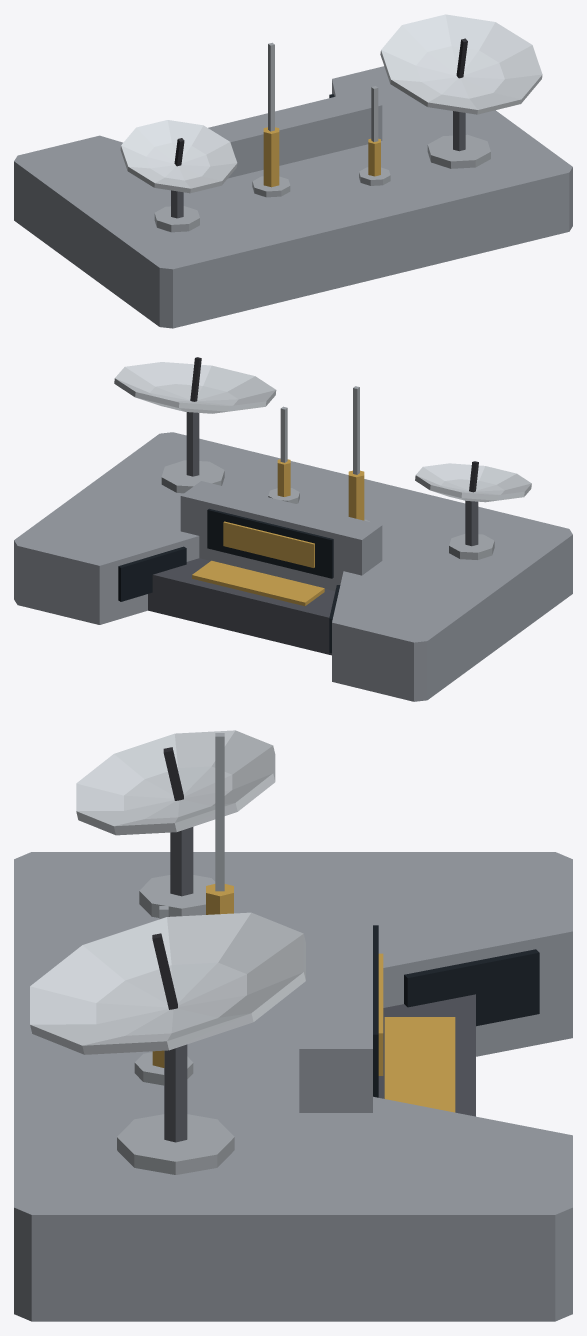
File: comms_console.obj
3 renders of one model, top to bottom at view 1: azimuth 30°, elevation 25°; view 2: azimuth 150°, elevation 25°; view 3: azimuth 270°, elevation 25°, orthographic. The views are drawn at different scales.
Visible parts, largest first — view 1: comms_console_0, comms_console_10, comms_console_1, comms_console_14, comms_console_8, comms_console_17, comms_console_12, comms_console_18, comms_console_16, comms_console_9, comms_console_20, comms_console_21 (+1 smaller); view 2: comms_console_0, comms_console_1, comms_console_4, comms_console_10, comms_console_14, comms_console_2, comms_console_5, comms_console_3, comms_console_7, comms_console_8, comms_console_9, comms_console_12 (+5 smaller); view 3: comms_console_0, comms_console_10, comms_console_1, comms_console_14, comms_console_6, comms_console_5, comms_console_8, comms_console_4, comms_console_9, comms_console_12, comms_console_18, comms_console_13 (+5 smaller).
Boxes of the visible parts, <box> form: comms_console_0: <box>14,66,572,328</box>; comms_console_10: <box>380,14,542,114</box>; comms_console_1: <box>208,90,382,178</box>; comms_console_14: <box>120,120,237,193</box>; comms_console_8: <box>427,134,490,168</box>; comms_console_17: <box>263,127,279,187</box>; comms_console_12: <box>154,206,199,232</box>; comms_console_18: <box>268,42,274,131</box>; comms_console_16: <box>252,176,290,197</box>; comms_console_9: <box>453,111,465,151</box>; comms_console_20: <box>368,138,380,176</box>; comms_console_21: <box>371,86,378,141</box>; comms_console_0: <box>14,432,572,701</box>; comms_console_1: <box>180,481,382,590</box>; comms_console_4: <box>148,558,335,655</box>; comms_console_10: <box>114,362,276,413</box>; comms_console_14: <box>415,463,531,502</box>; comms_console_2: <box>207,508,333,578</box>; comms_console_5: <box>192,560,324,606</box>; comms_console_3: <box>223,521,314,567</box>; comms_console_7: <box>118,546,186,601</box>; comms_console_8: <box>161,460,224,493</box>; comms_console_9: <box>186,412,199,476</box>; comms_console_12: <box>449,534,494,559</box>; comms_console_0: <box>14,852,572,1321</box>; comms_console_10: <box>30,912,305,1054</box>; comms_console_1: <box>299,890,372,1112</box>; comms_console_14: <box>76,730,275,835</box>; comms_console_6: <box>404,949,539,1026</box>; comms_console_5: <box>384,1017,455,1112</box>; comms_console_8: <box>117,1114,234,1174</box>; comms_console_4: <box>378,994,475,1116</box>; comms_console_9: <box>164,1044,187,1142</box>; comms_console_12: <box>139,875,215,917</box>; comms_console_18: <box>215,733,224,891</box>; comms_console_13: <box>170,827,193,896</box>.
Size of the model in its own units: 2.92 by 1.38 by 1.9.
